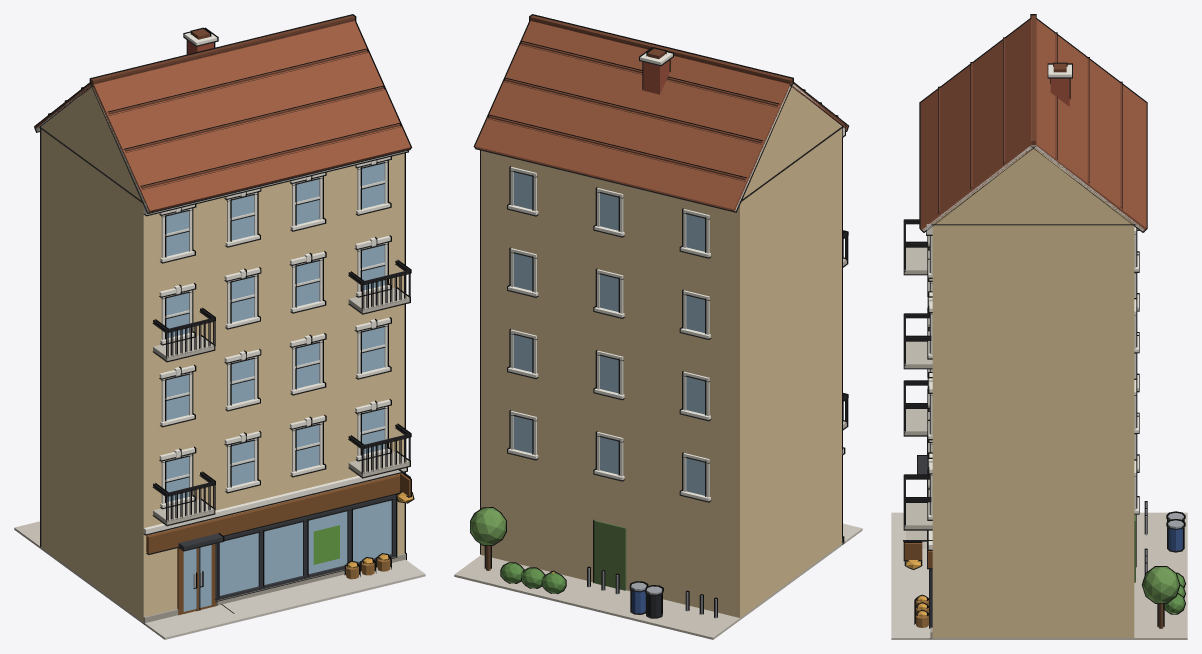
The model's file is Blok_duz_5k_2.fbx.
3 views of the same model, side by side, from view 1: azimuth 30°, elevation 25°; view 2: azimuth 150°, elevation 25°; view 3: azimuth 270°, elevation 25° (orthographic).
Parts seen in each view (by area): view 1: Blok_duz_5k_2; view 2: Blok_duz_5k_2; view 3: Blok_duz_5k_2.
Part boxes in pixels (x1,y1,x2,y2): Blok_duz_5k_2: [14, 14, 425, 639]; Blok_duz_5k_2: [454, 14, 862, 639]; Blok_duz_5k_2: [891, 14, 1187, 639].
Size of the model in its own units: 10.14 by 18.96 by 10.
